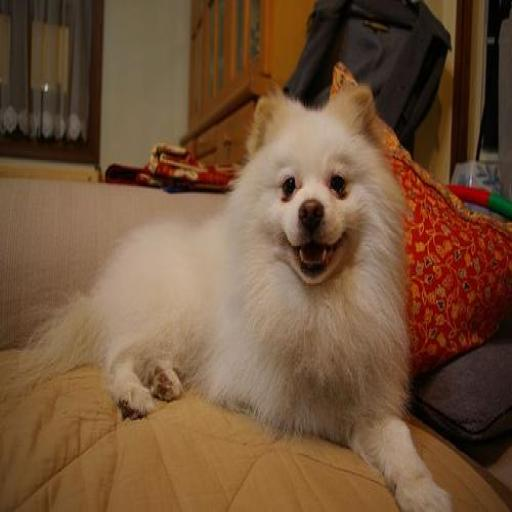dog_face: (251, 92, 375, 285)
